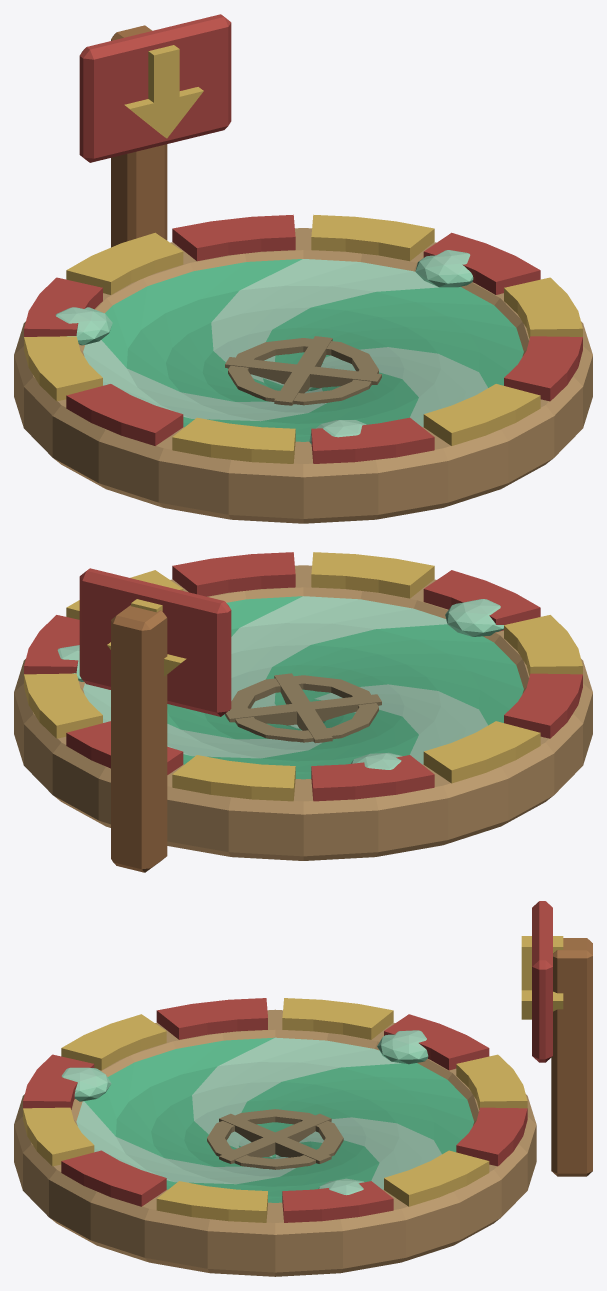
Rendered from ranch_goo_drain.fbx.
3 views of the same model, one above another, from view 1: azimuth 30°, elevation 25°; view 2: azimuth 150°, elevation 25°; view 3: azimuth 270°, elevation 25° (orthographic). The views are drawn at different scales.
Visible parts, largest first — view 1: ranch_goo_drain; view 2: ranch_goo_drain; view 3: ranch_goo_drain.
Boxes of the visible parts, x1,y1,x2,y2 form: ranch_goo_drain: [14, 14, 592, 523]; ranch_goo_drain: [14, 552, 592, 872]; ranch_goo_drain: [14, 901, 592, 1276].
Size of the model in its own units: 8.8 by 4.45 by 9.75.
